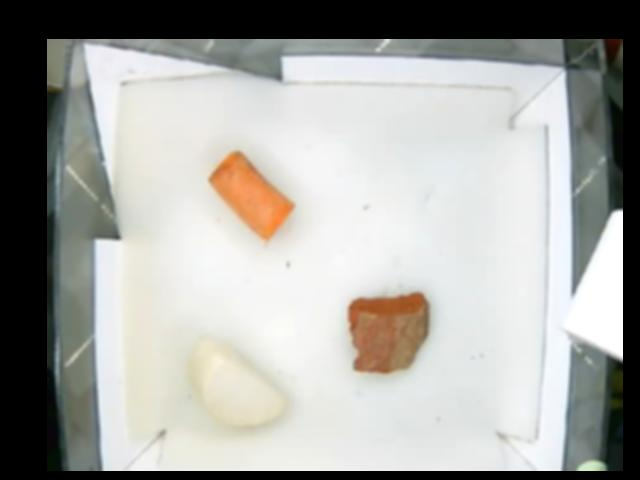Brisk: (347, 290, 431, 373)
Carrot: (204, 147, 296, 242)
Mooli: (187, 332, 292, 427)
